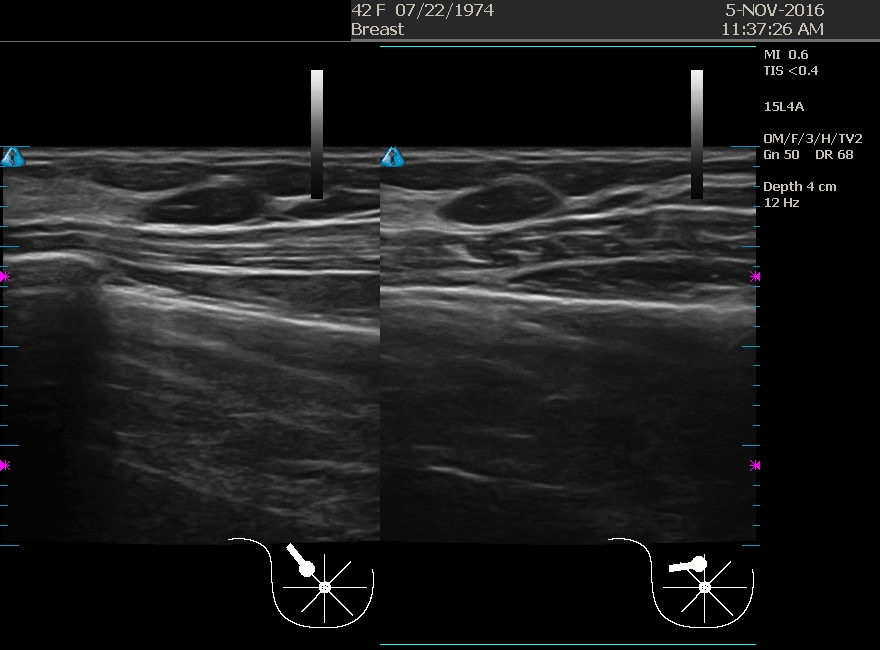Benign: (95, 160, 295, 360), (409, 153, 609, 353)
